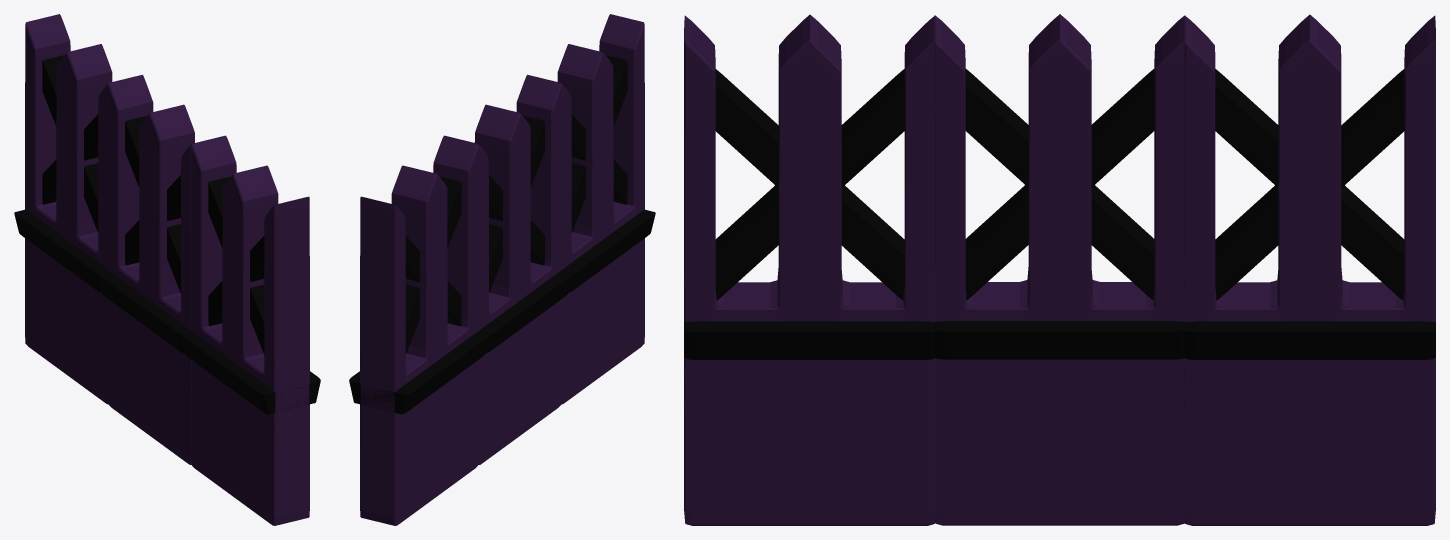
File: fence.fbx
3 views of the same model, side by side, from view 1: azimuth 30°, elevation 25°; view 2: azimuth 150°, elevation 25°; view 3: azimuth 270°, elevation 25° (orthographic). The views are drawn at different scales.
Parts seen in each view (by area): view 1: Cube.011, Cube, Cube.004, Cube.010, Cube.001, Cube.005, Cube.007, Cube.008, Cube.003, Cube.006, Cube.009, Cube.002; view 2: Cube.004, Cube, Cube.011, Cube.005, Cube.001, Cube.010, Cube.006, Cube.009, Cube.002, Cube.007, Cube.008, Cube.003; view 3: Cube.011, Cube.004, Cube, Cube.005, Cube.010, Cube.001, Cube.008, Cube.002, Cube.006, Cube.007, Cube.009, Cube.003.
Boxes of the visible parts, left/top/right/bottom form: Cube.011: left=191, top=136, right=309, bottom=525; Cube: left=107, top=74, right=225, bottom=464; Cube.004: left=25, top=14, right=142, bottom=404; Cube.010: left=180, top=331, right=320, bottom=414; Cube.001: left=97, top=270, right=190, bottom=353; Cube.005: left=14, top=209, right=107, bottom=292; Cube.007: left=42, top=55, right=98, bottom=232; Cube.008: left=208, top=177, right=264, bottom=354; Cube.003: left=125, top=116, right=180, bottom=293; Cube.006: left=42, top=114, right=98, bottom=204; Cube.009: left=208, top=236, right=264, bottom=326; Cube.002: left=125, top=175, right=180, bottom=265; Cube.004: left=360, top=136, right=478, bottom=525; Cube: left=444, top=74, right=562, bottom=464; Cube.011: left=527, top=14, right=644, bottom=404; Cube.005: left=349, top=331, right=489, bottom=414; Cube.001: left=479, top=270, right=572, bottom=353; Cube.010: left=562, top=209, right=655, bottom=292; Cube.006: left=405, top=177, right=461, bottom=354; Cube.009: left=571, top=55, right=627, bottom=232; Cube.002: left=489, top=116, right=544, bottom=293; Cube.007: left=405, top=236, right=461, bottom=326; Cube.008: left=571, top=114, right=627, bottom=204; Cube.003: left=488, top=174, right=544, bottom=265; Cube.011: left=684, top=14, right=935, bottom=525; Cube.004: left=1184, top=14, right=1435, bottom=525; Cube: left=934, top=14, right=1185, bottom=525; Cube.005: left=1184, top=321, right=1435, bottom=359; Cube.010: left=684, top=321, right=935, bottom=359; Cube.001: left=935, top=321, right=1184, bottom=359; Cube.008: left=715, top=69, right=904, bottom=300; Cube.002: left=965, top=69, right=1154, bottom=299; Cube.006: left=1215, top=69, right=1404, bottom=300; Cube.007: left=1215, top=69, right=1404, bottom=300; Cube.009: left=715, top=69, right=904, bottom=300; Cube.003: left=965, top=69, right=1154, bottom=299.
Size of the model in its own units: 84.21 by 427 by 597.
